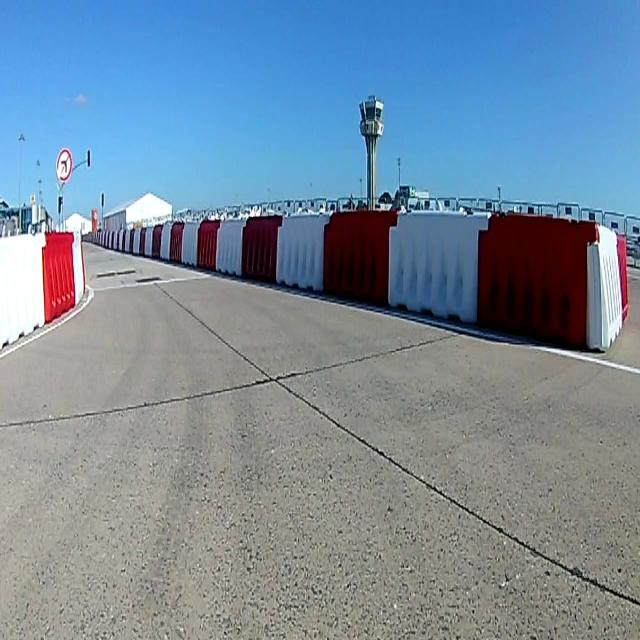soladonulmez: (57, 147, 71, 181)
